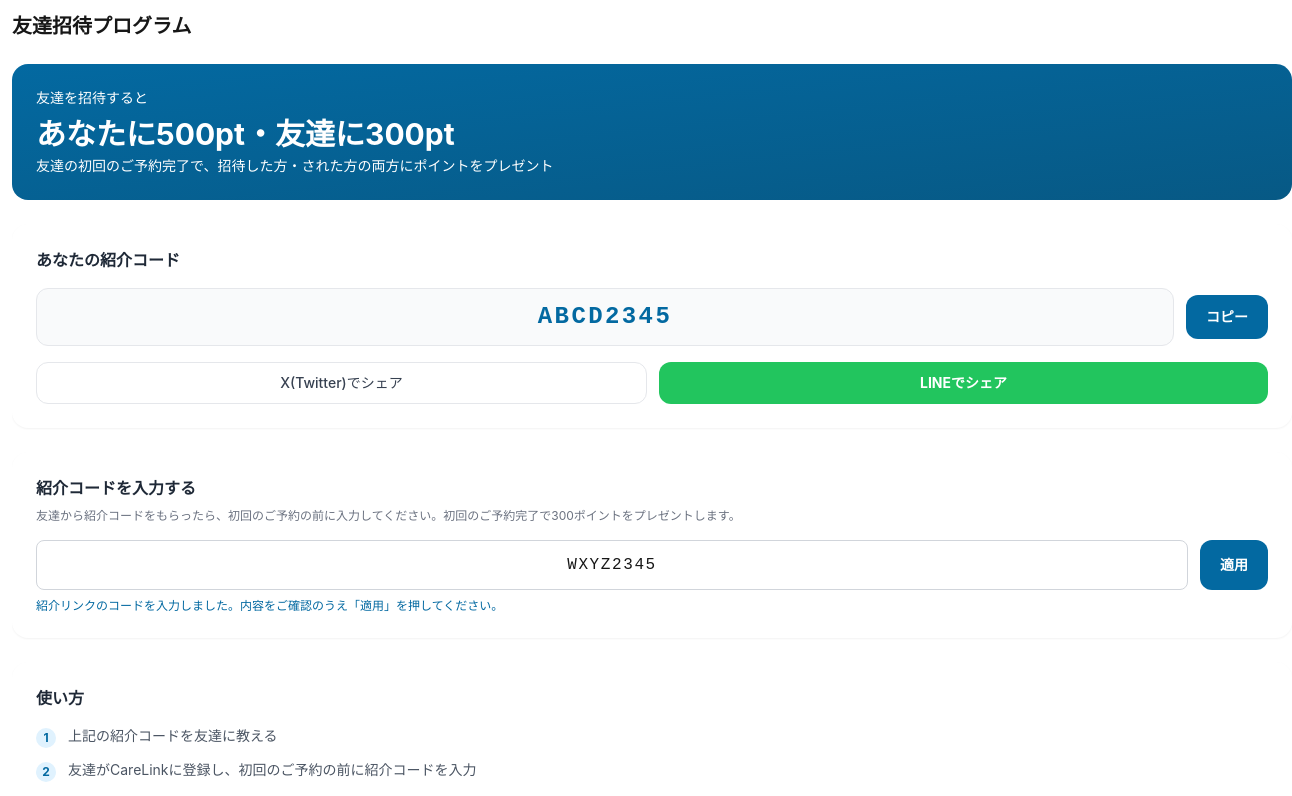
Scenario: 共有リンク（?ref=）のコードを入力欄へ入れる › 入力欄を書き換えたら、リンクから入れた旨の案内は消す
Replace the text in the field with placeholder "例: ABCD2345" with "efgh2345": (612, 565) left=36, top=540, right=1188, bottom=590
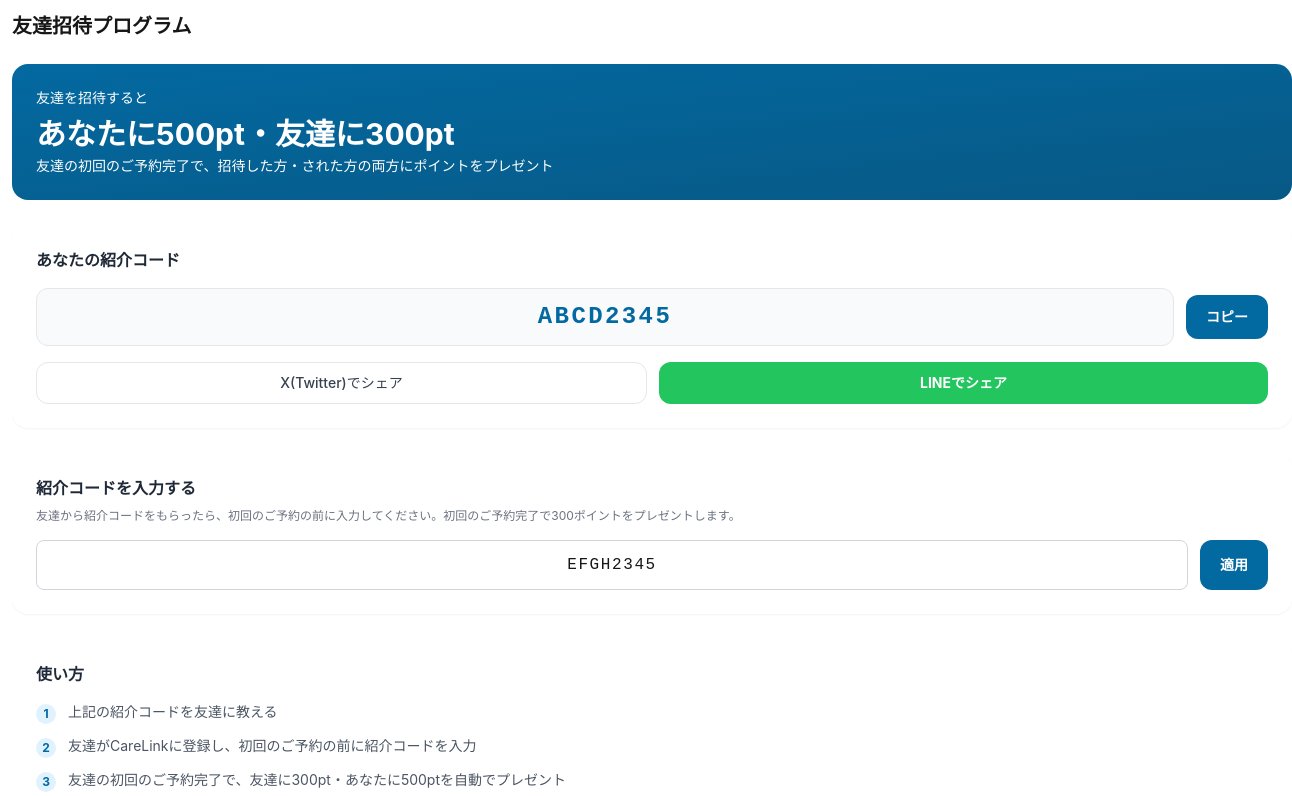
Now the text "紹介リンクのコードを入力しました。内容をご確認のうえ「適用」を押してください。" is gone
